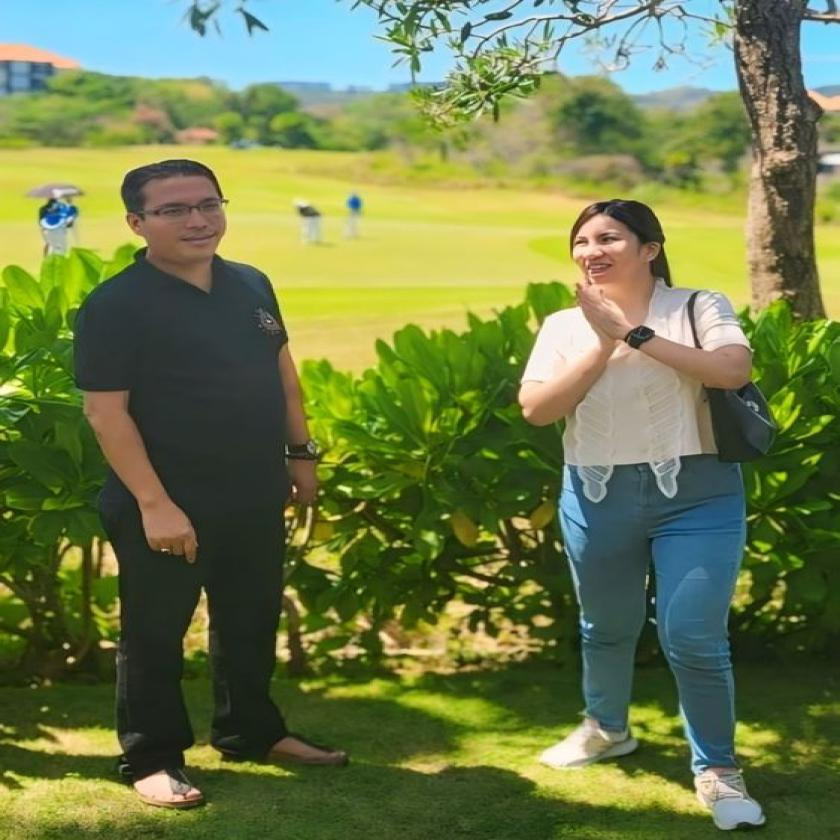Sin_casco: (110, 138, 252, 288), (555, 194, 690, 296)
